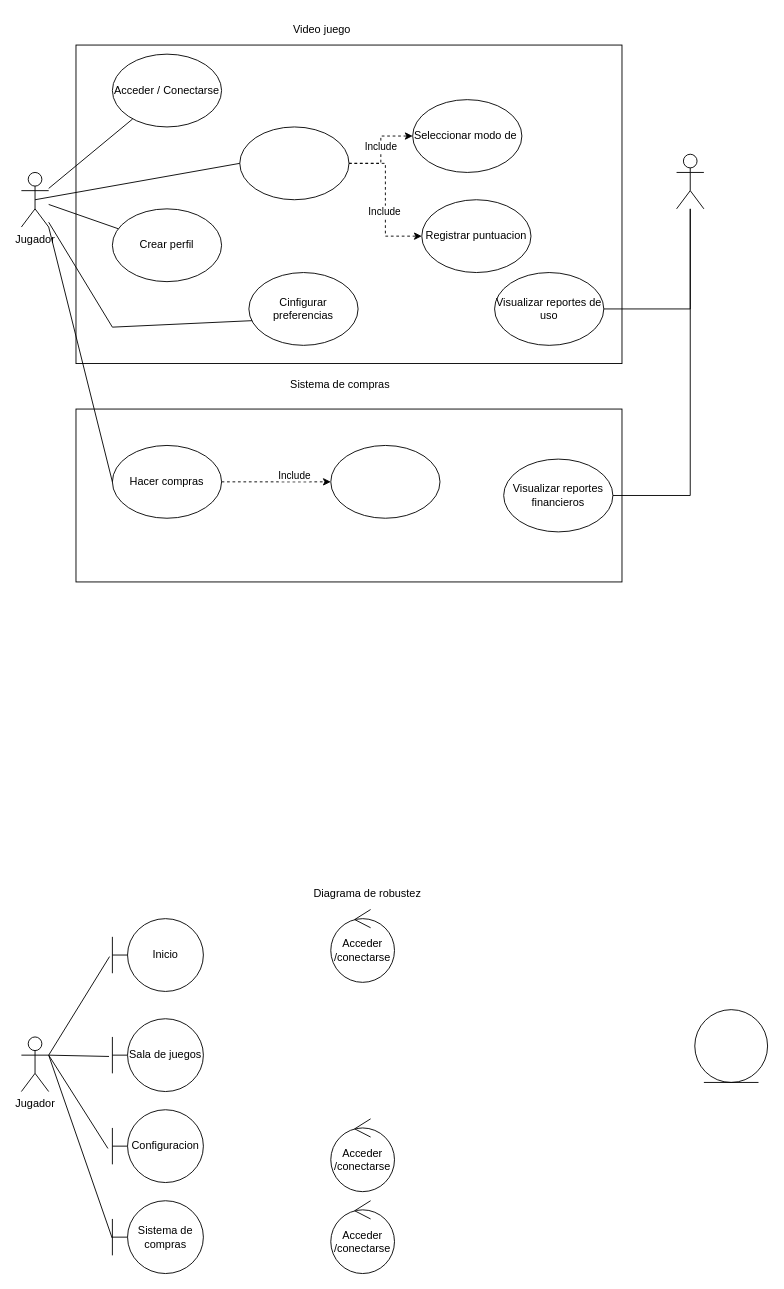
This 784x1289 diagram has some shape labels left out. The shapes that lost their labels are listed below. From the top down, each one's box as (x1, y1, x2, y2) in pixels, then its label:
(239, 126, 349, 200): Jugar
(676, 153, 704, 209): Productor/Sponsor
(330, 445, 440, 518): Realizar pago
(694, 1009, 768, 1082): Entity Object
